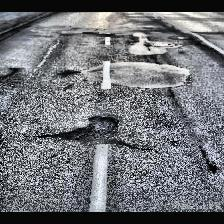pothole: (60, 114, 122, 144), (102, 32, 114, 36), (82, 30, 94, 34)
